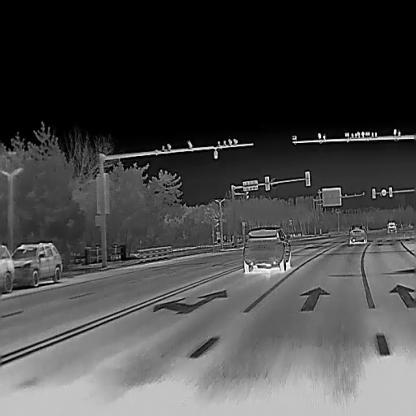car: (11, 242, 63, 287), (243, 226, 291, 274), (0, 245, 14, 293), (349, 224, 368, 245), (387, 221, 397, 232)
